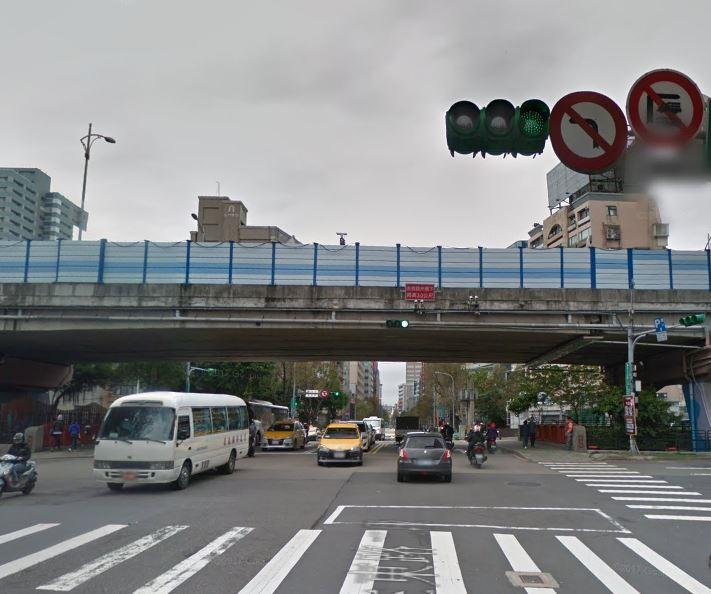green_traffic_light: (441, 96, 551, 161), (383, 316, 408, 327)
